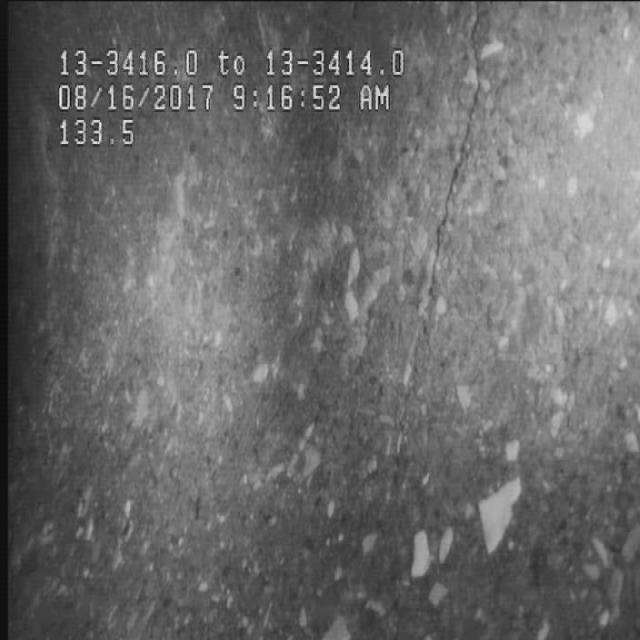Crack: (398, 14, 544, 414)
